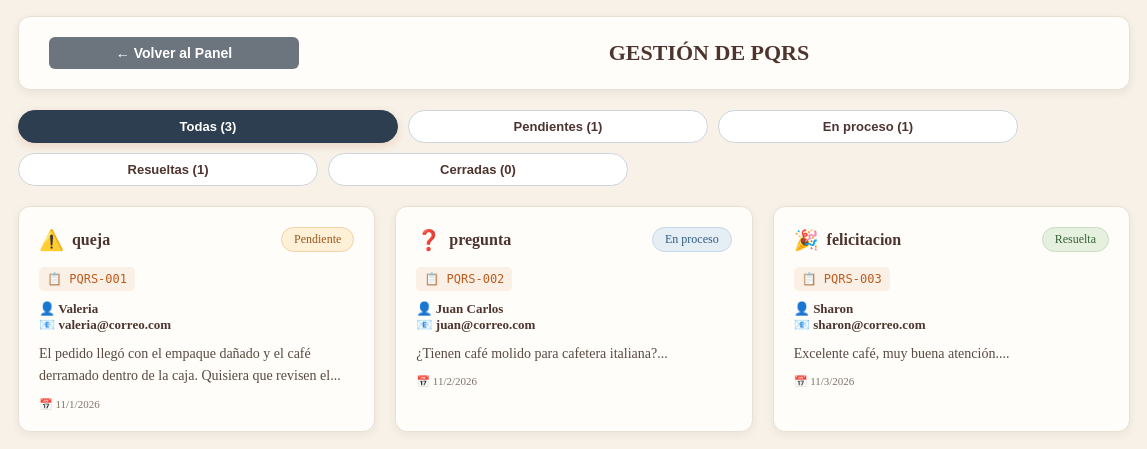
Test: VerPqrs - ver PQRS › filtros › filtrar por "Resueltas" deja solo las resueltas
The width and height of the screenshot is (1147, 449).
expect the heading "GESTIÓN DE PQRS" is shown: met, box [609,40,809,65]
Click the button "Resueltas (1)".
click(168, 170)  # box [18,153,318,186]
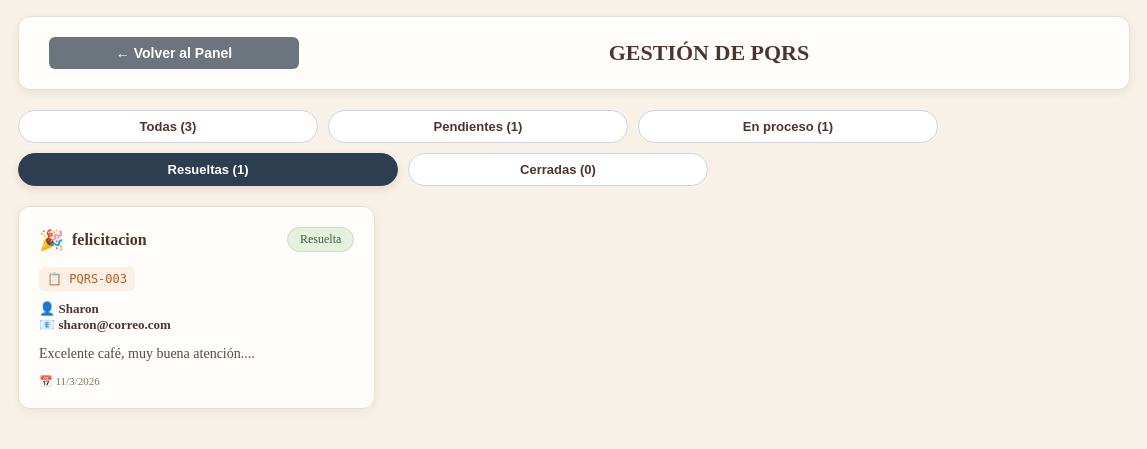
expect the text "📋 PQRS-003" is shown: met, box [39,267,135,291]
expect the text "PQRS-001" is gone: met
